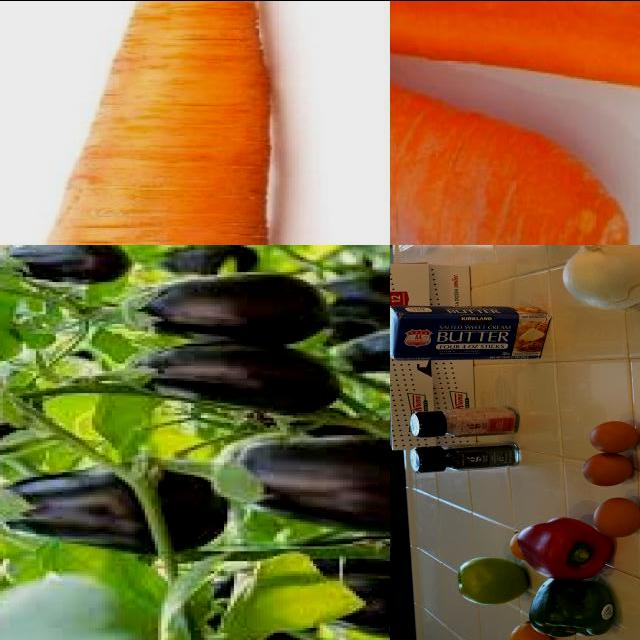bell_pepper: (524, 510, 617, 581), (528, 584, 617, 636), (409, 438, 527, 476)
carrot: (1, 1, 347, 245), (391, 1, 633, 245), (391, 1, 640, 90)
egg: (592, 496, 640, 537), (580, 454, 636, 487), (589, 420, 640, 454)
eggplant: (1, 463, 218, 554), (218, 438, 391, 537), (116, 349, 337, 418), (116, 274, 324, 346), (241, 574, 391, 638), (1, 245, 129, 292), (297, 280, 391, 334), (330, 329, 391, 389)
onion: (560, 245, 640, 317)
